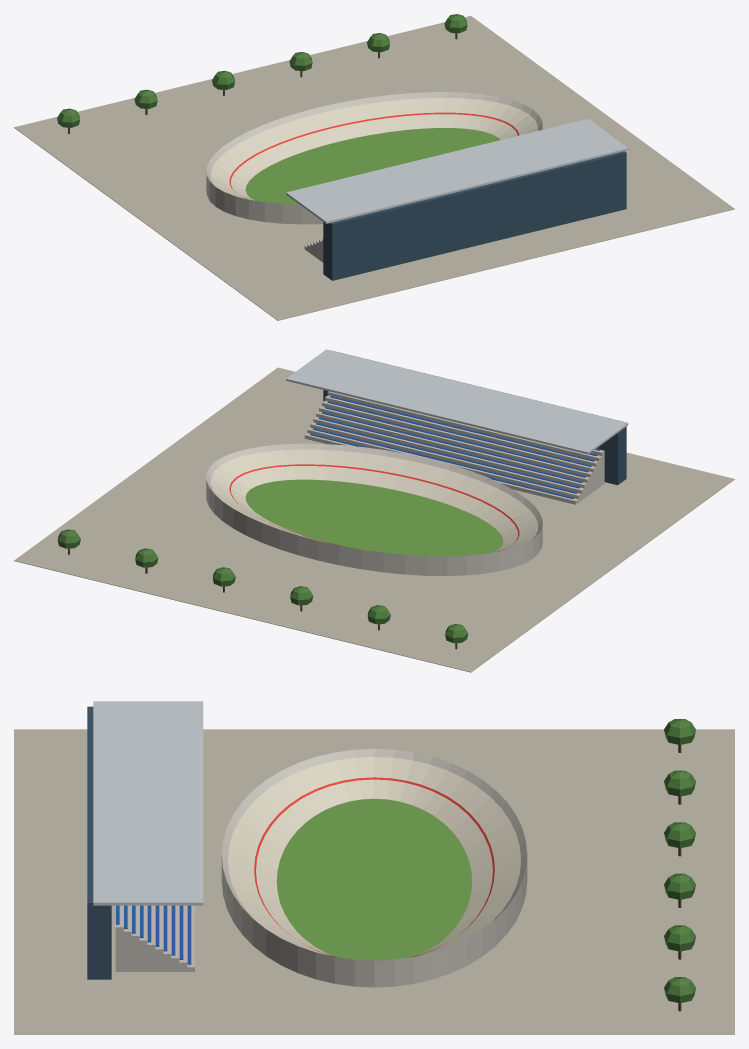
File: keirin.glb
The picture shows the model from 3 angles, top to bottom: view 1: azimuth 30°, elevation 25°; view 2: azimuth 150°, elevation 25°; view 3: azimuth 270°, elevation 25°; orthographic projection. The views are drawn at different scales.
Visible parts, largest first — view 1: Keirin_static; view 2: Keirin_static; view 3: Keirin_static.
Part boxes in pixels (x1,y1,x2,y2): Keirin_static: [14, 14, 734, 320]; Keirin_static: [14, 349, 734, 672]; Keirin_static: [14, 701, 734, 1034].
Bounding box in the file's own units: 118 × 14.51 × 118.
